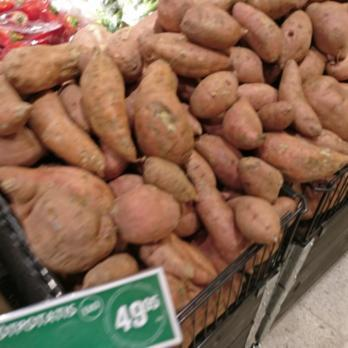Sweet potato: (159, 0, 348, 171), (0, 48, 152, 180), (26, 179, 278, 238), (41, 242, 248, 257)
